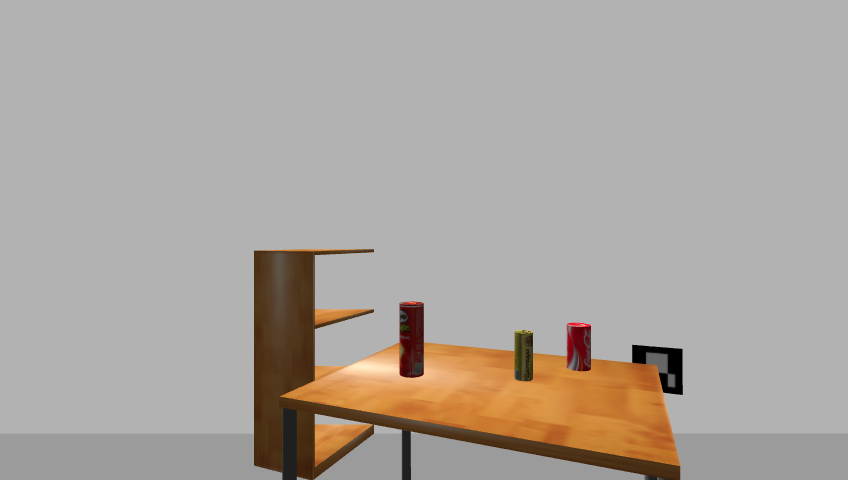aruco marker: (626, 343, 688, 397)
biscuits pack: (513, 330, 534, 383)
bookshelf: (249, 246, 381, 480)
coke can: (564, 322, 593, 373)
dinner table: (278, 339, 689, 479)
pringles can: (397, 301, 426, 380)
